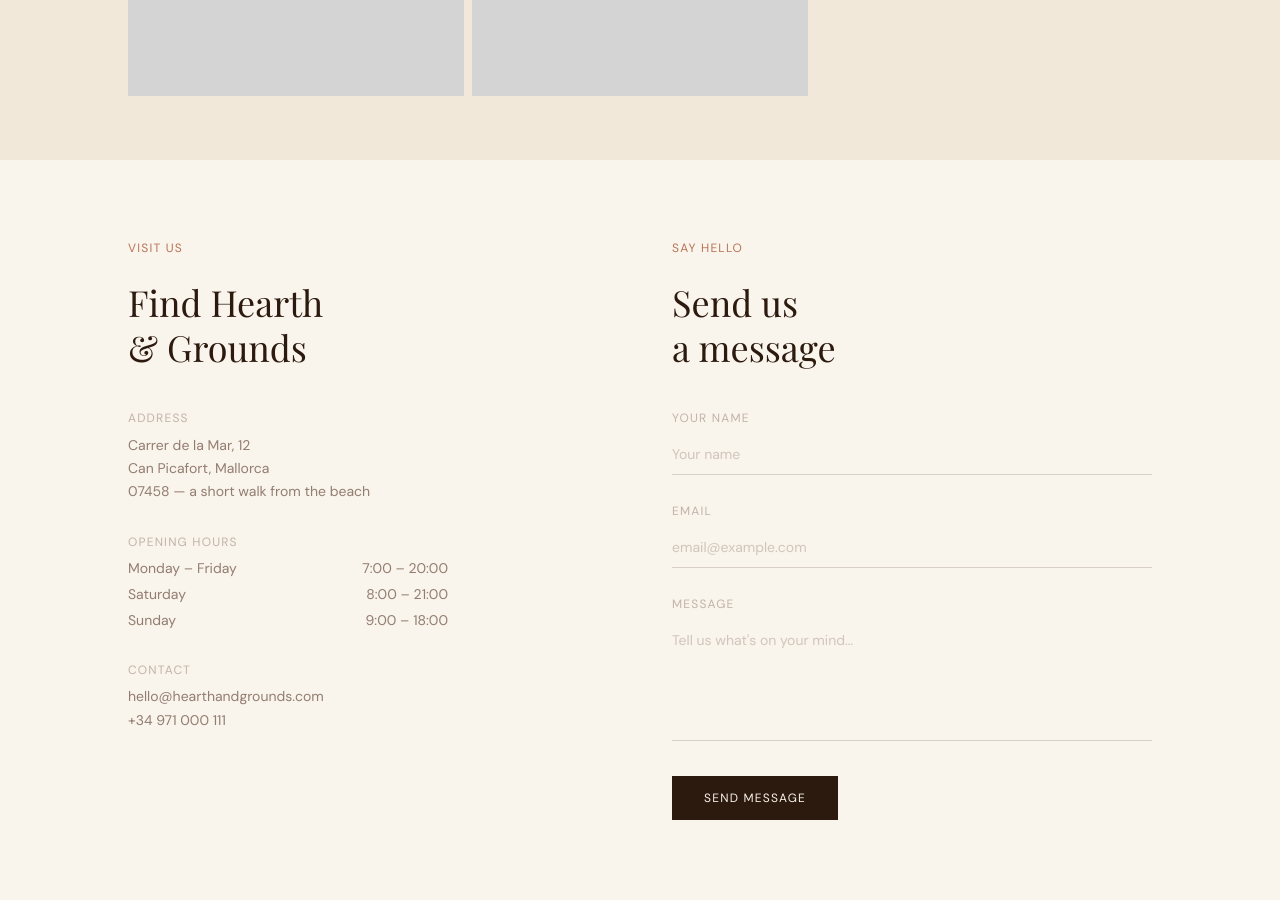
Test: GalleryContact page — contact form › shows error message when API fails
(page scrolled)
Type "Andrada" into the field with placeholder "Your name" at (912, 454), box [672,434,1152,475]
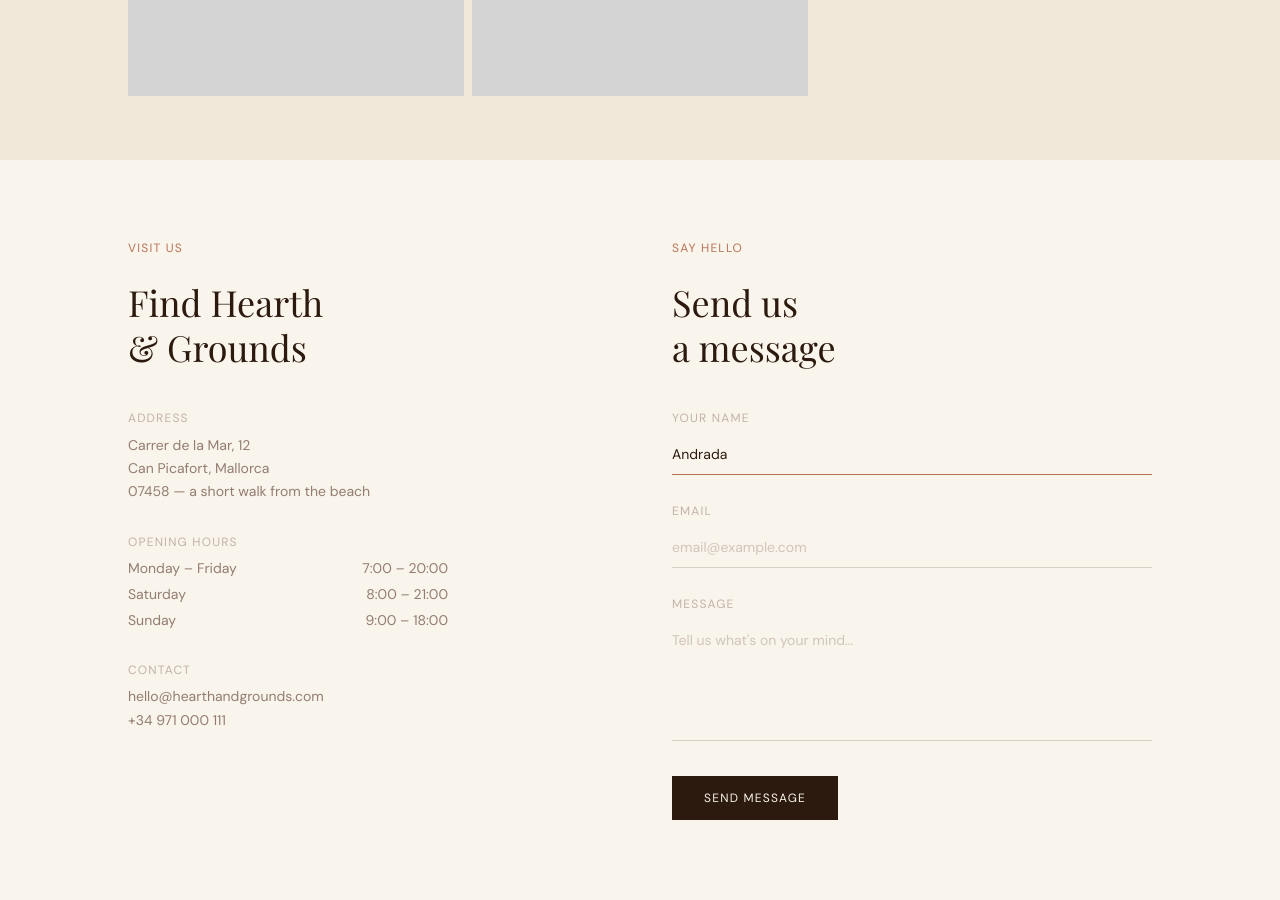
Type "andrada@example.com" into the field with placeholder "email@example.com" at (912, 548), box [672,527,1152,568]
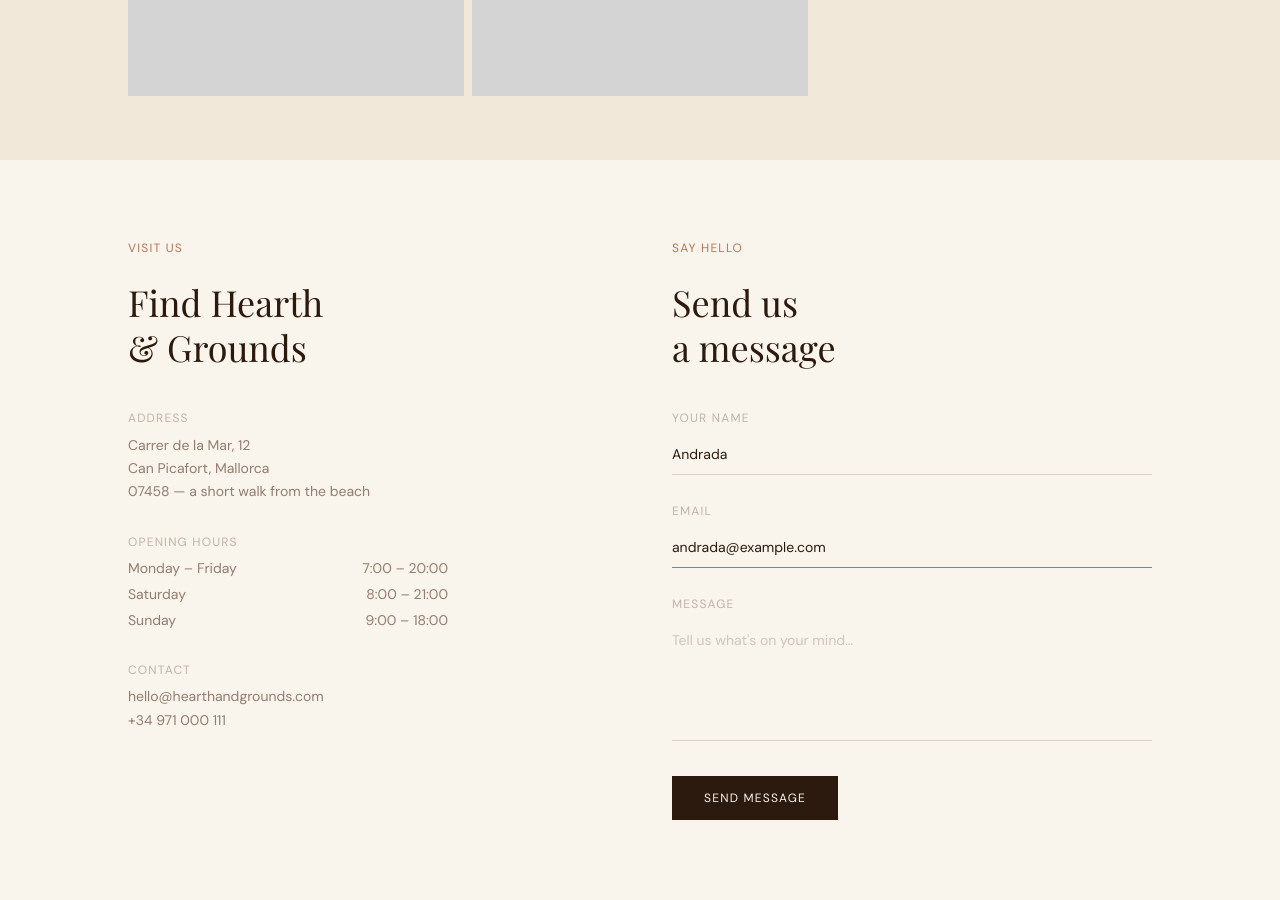
Type "Test message here" into the text box with placeholder "Tell us what's on your mind..." at (912, 680), box [672,620,1152,741]
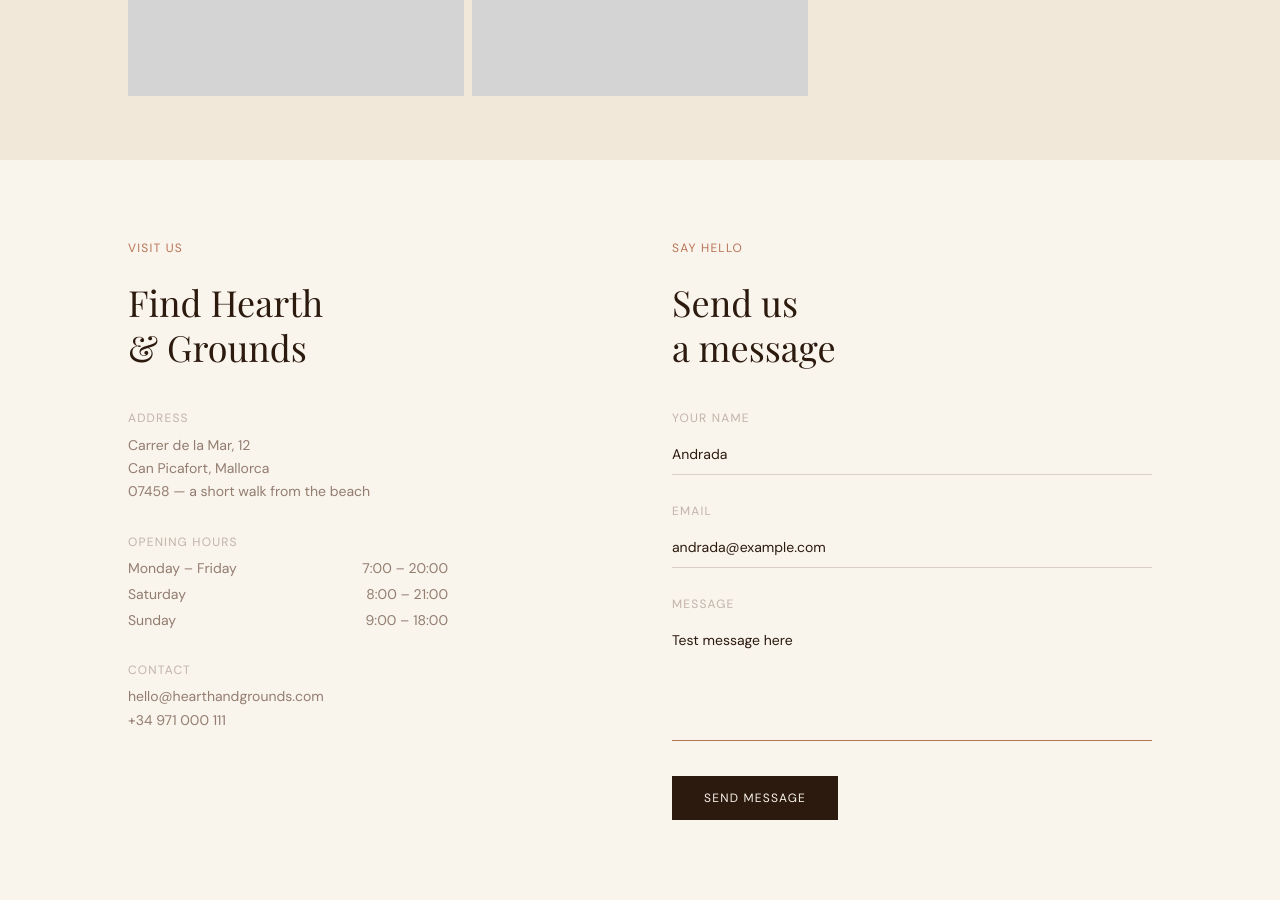
Click the button "Send Message" at (755, 798), box [672,776,838,820]
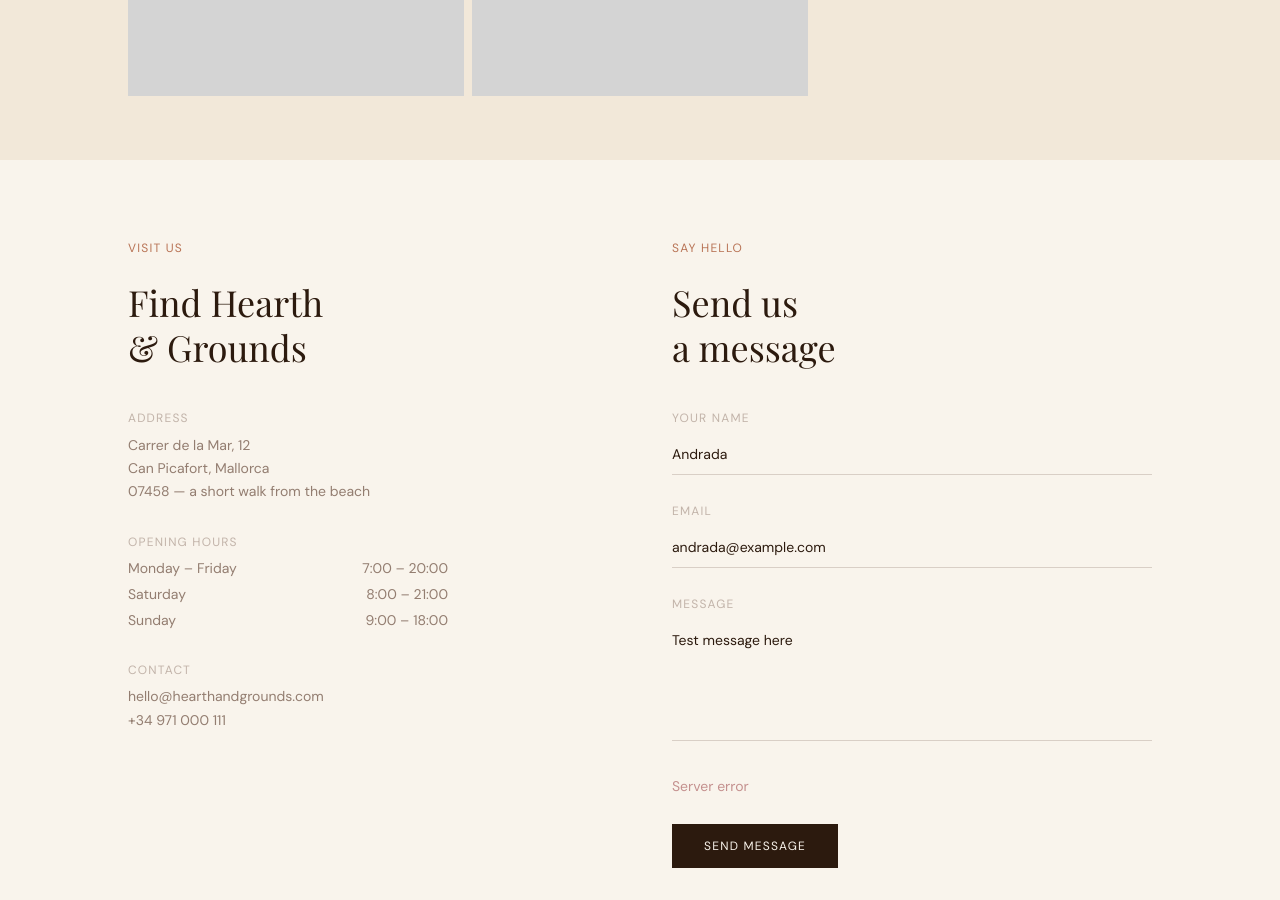
expect the text "Server error" is shown: met, box [672,777,749,795]
